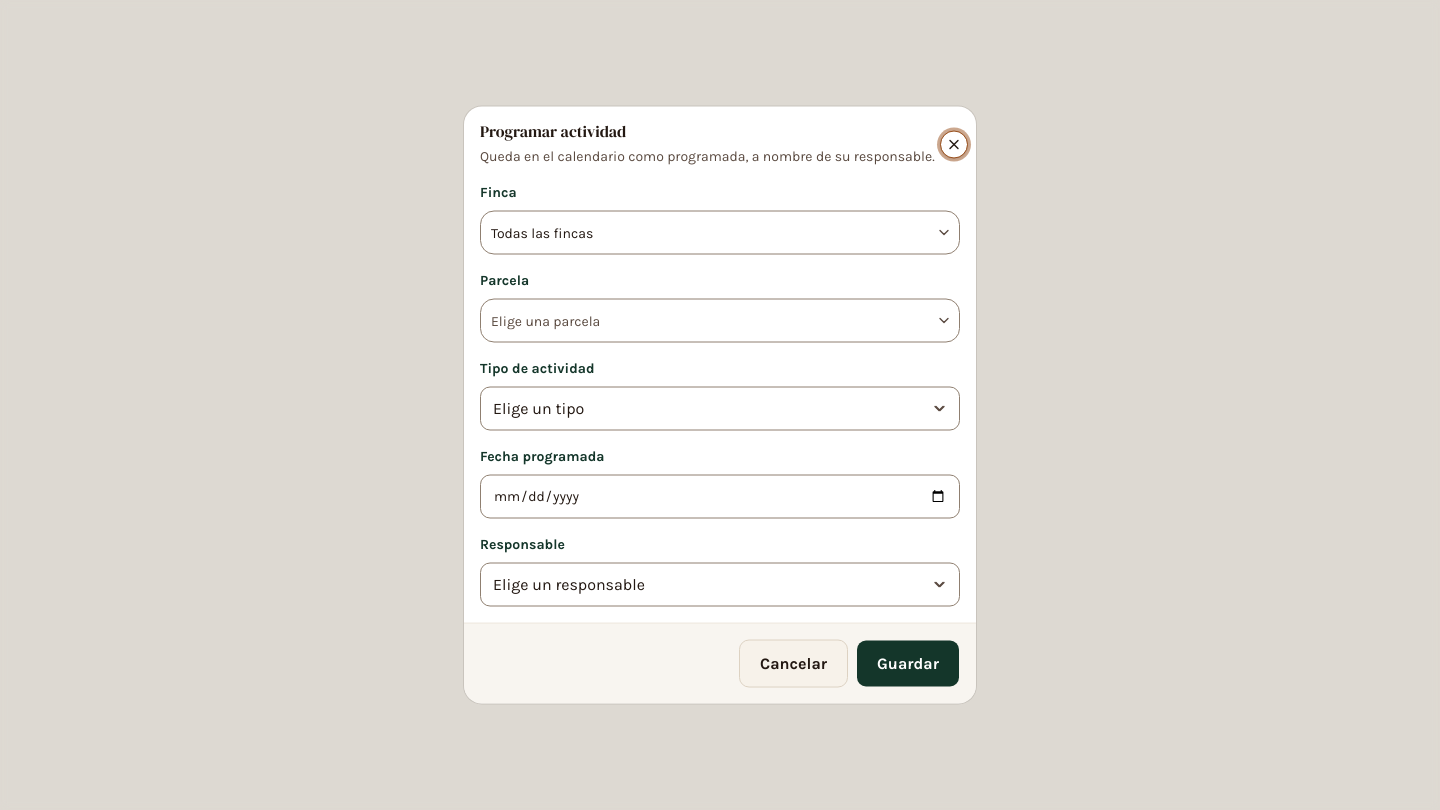
it: ActivityFormDialog › finds a plot by typing part of its code
The width and height of the screenshot is (1440, 810).
Click the dropdown labelled "Parcela" at (706, 320), box [481, 304, 932, 336]
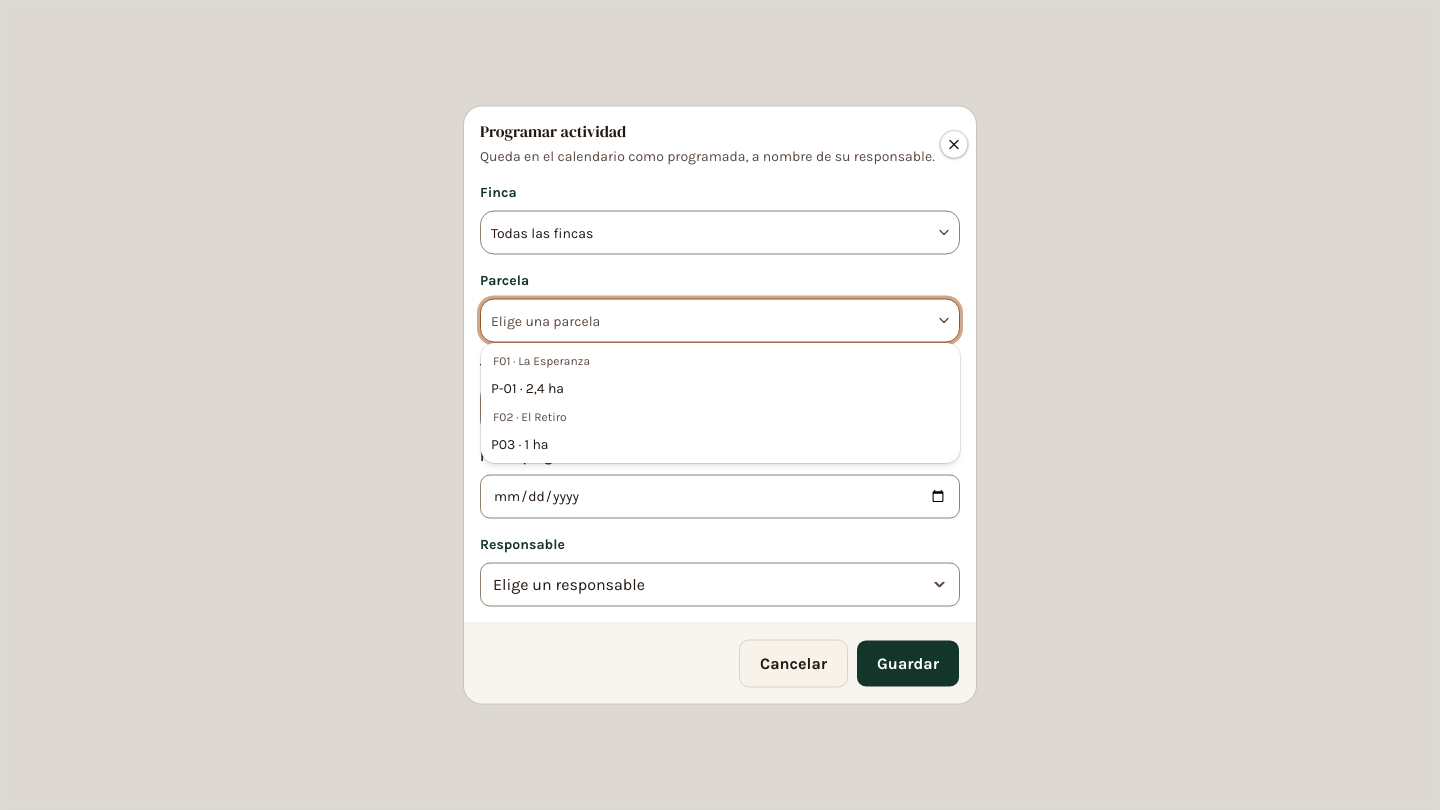
Press Escape
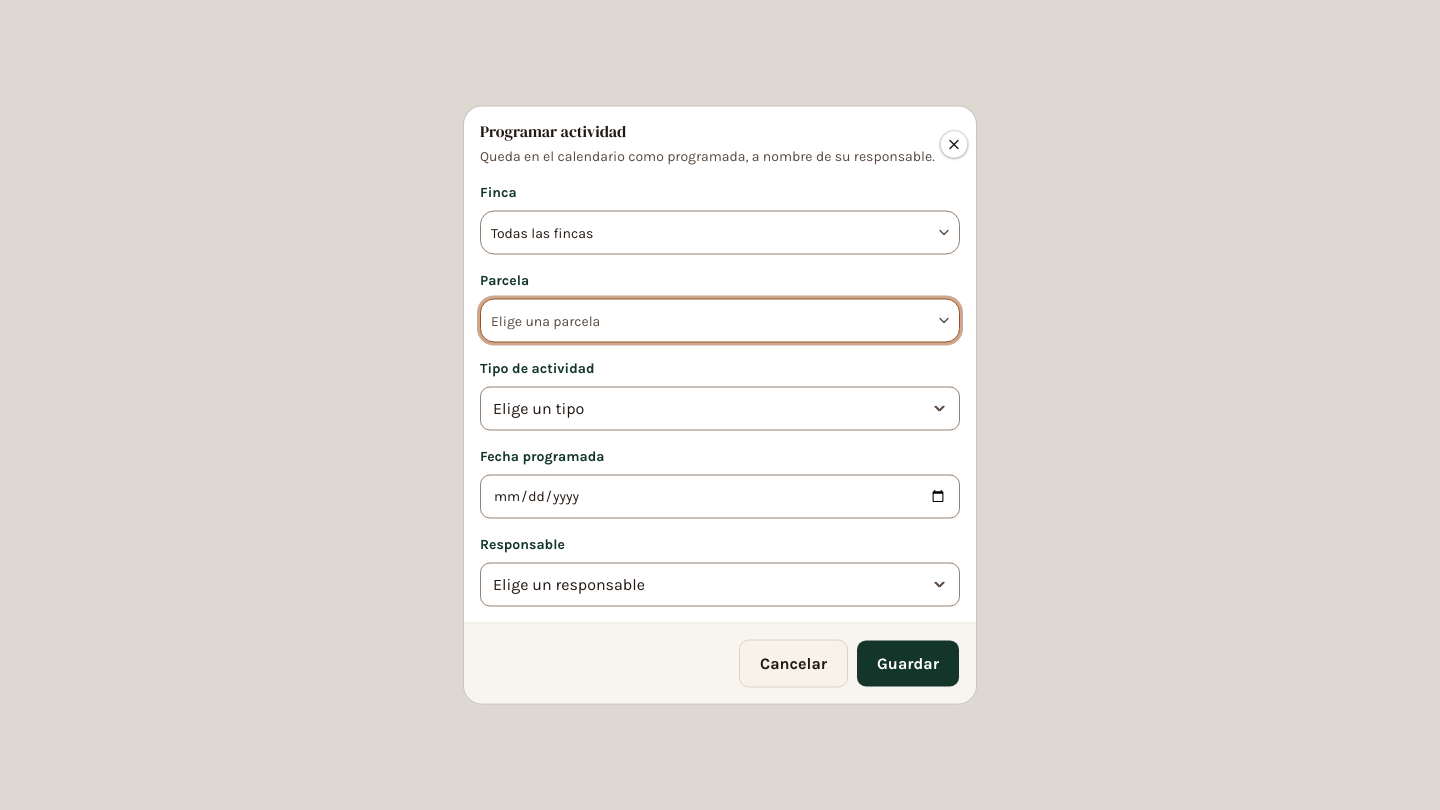
Type "p03" into the dropdown labelled "Parcela" at (706, 320), box [481, 304, 932, 336]
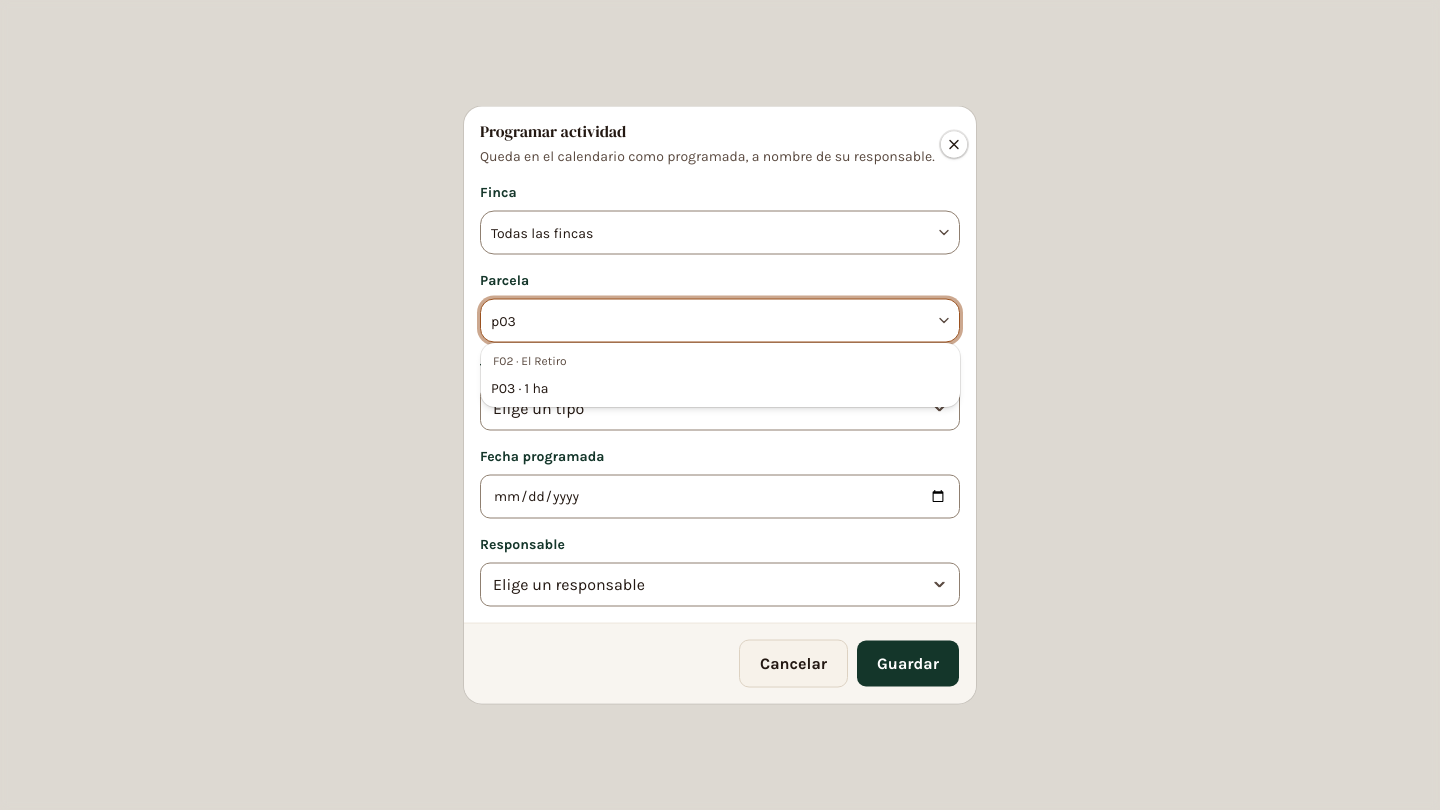
Result: the options read "P03 · 1 ha", in this order at [491, 380, 549, 397]
